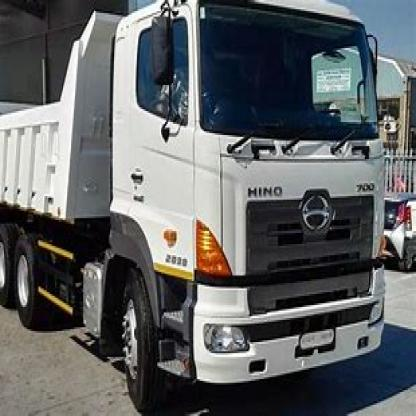dump_truck: (7, 0, 393, 383)
